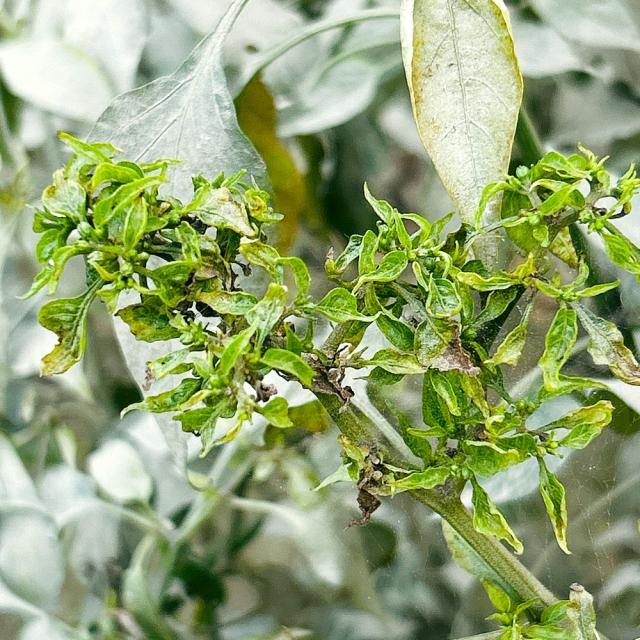Chilli_Leaf_Curl: (16, 2, 638, 636), (310, 146, 638, 556), (17, 128, 314, 458), (397, 0, 525, 231), (479, 576, 578, 638)
